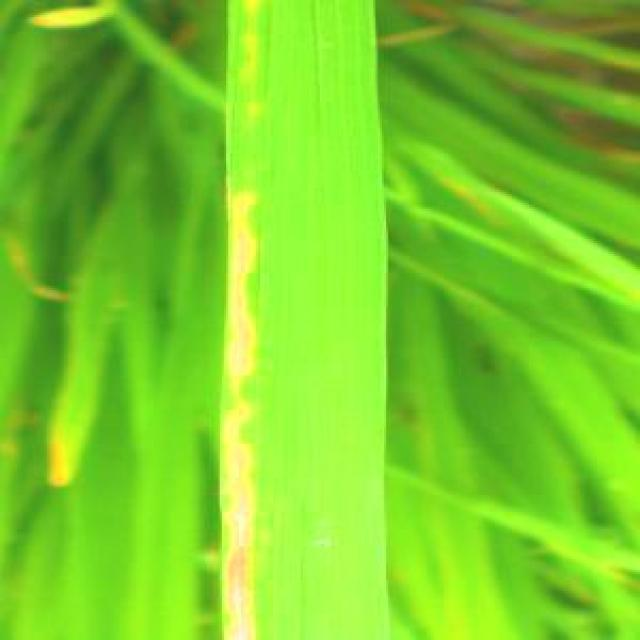Bacterial_Leaf_Blight: (211, 0, 395, 638)
